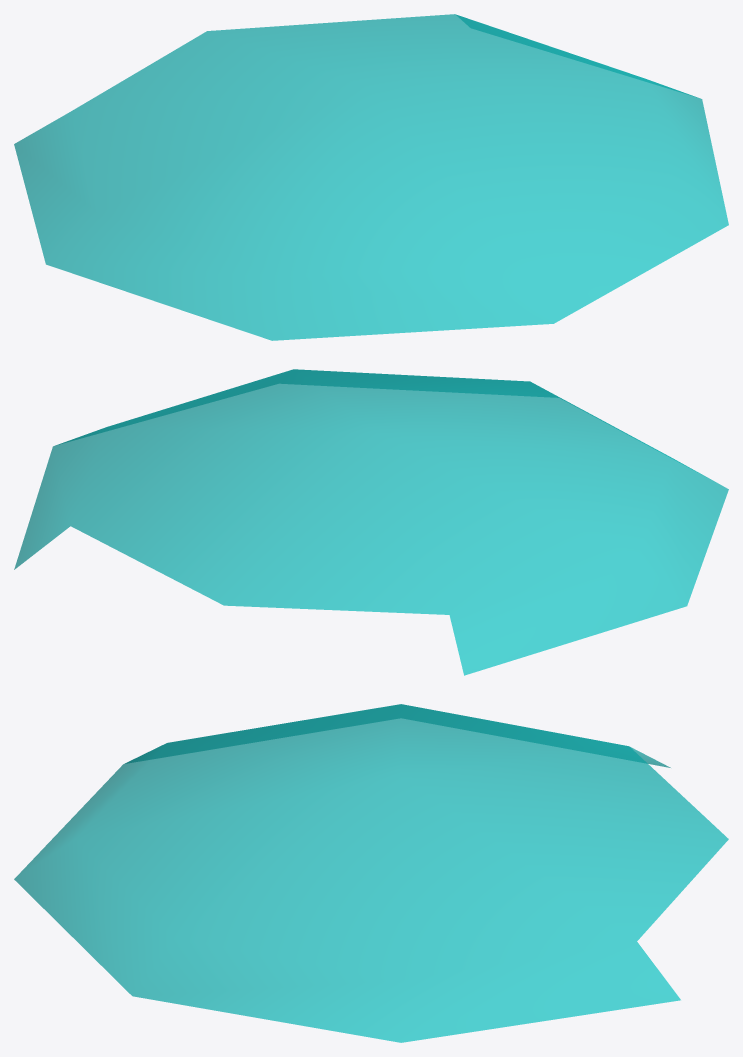
File: dummy_past1.gltf
The picture shows the model from 3 angles, top to bottom: view 1: azimuth 30°, elevation 25°; view 2: azimuth 150°, elevation 25°; view 3: azimuth 270°, elevation 25°; orthographic projection. The views are drawn at different scales.
Visible parts, largest first — view 1: dummy_past1; view 2: dummy_past1; view 3: dummy_past1.
Part boxes in pixels (<box>): dummy_past1: <box>14,14,728,340</box>; dummy_past1: <box>14,369,728,675</box>; dummy_past1: <box>14,704,728,1042</box>.
Bounding box in the file's own units: 0.5044 × 0.0735 × 0.4617.
